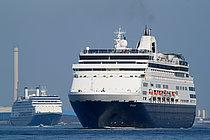Ship: (65, 23, 202, 132), (9, 84, 66, 130)
